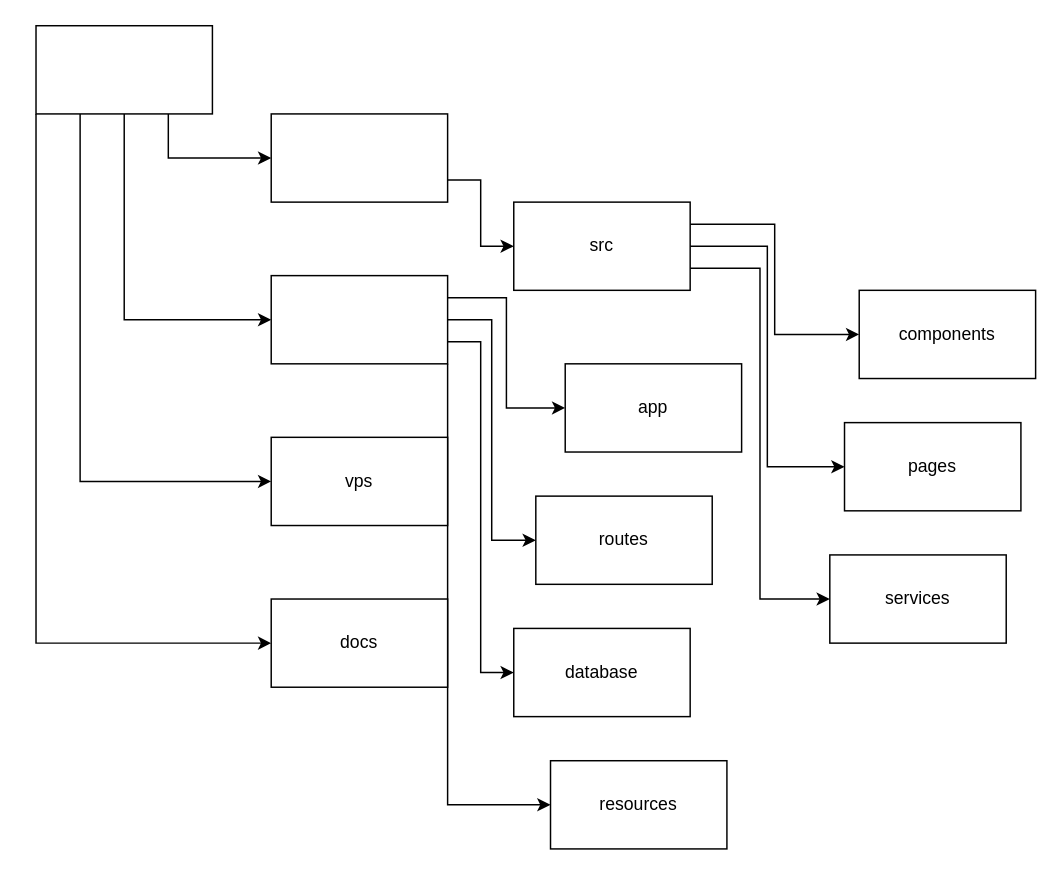
Image size: 1061x875. Some labels were removed from this diagram. The centre of each missing label's shape, as x and y in pixels:
backend: point 359,319
frontend: point 359,157
project: point 123,69
